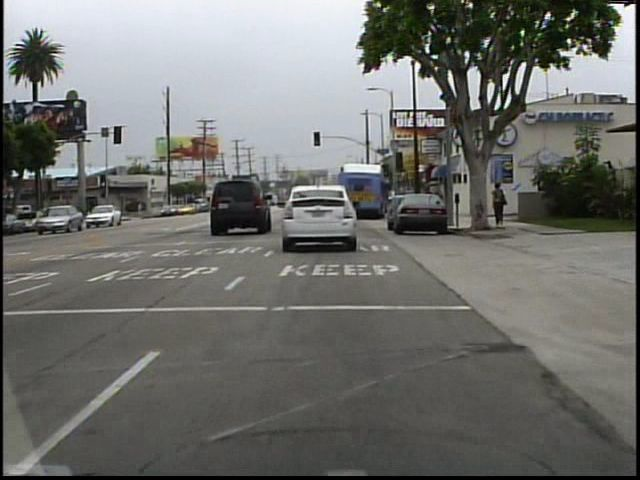person: (489, 180, 508, 229), (491, 181, 507, 226), (135, 199, 147, 220)
